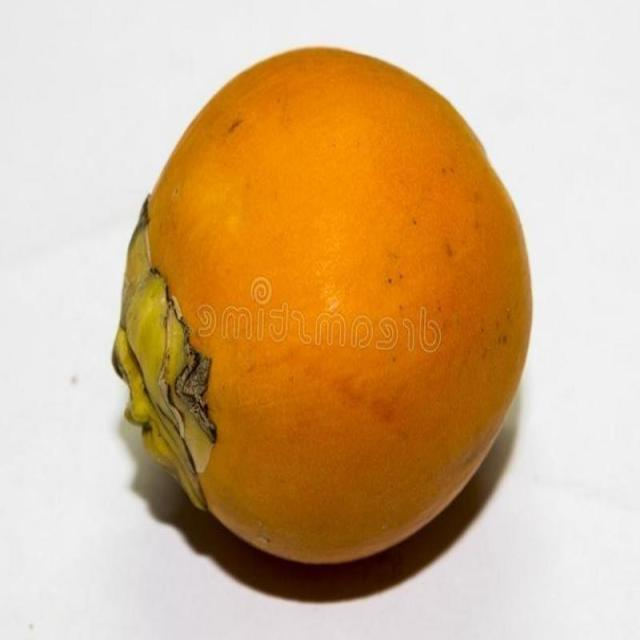good: (111, 47, 534, 568)
